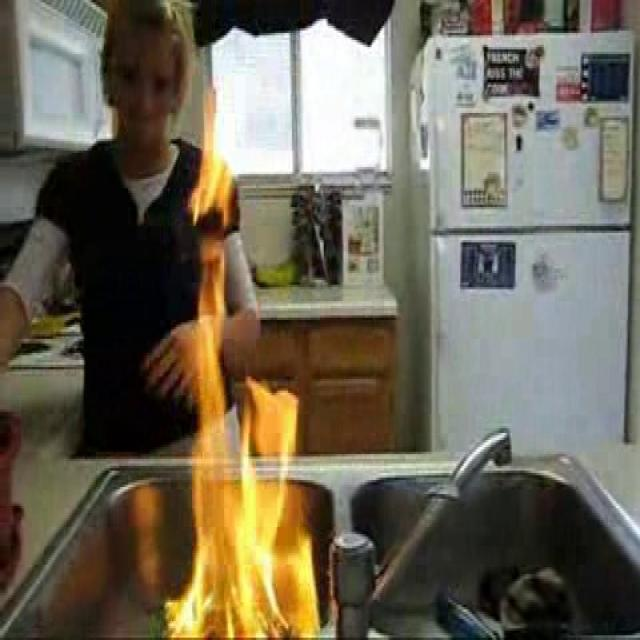fire: (191, 117, 306, 628)
